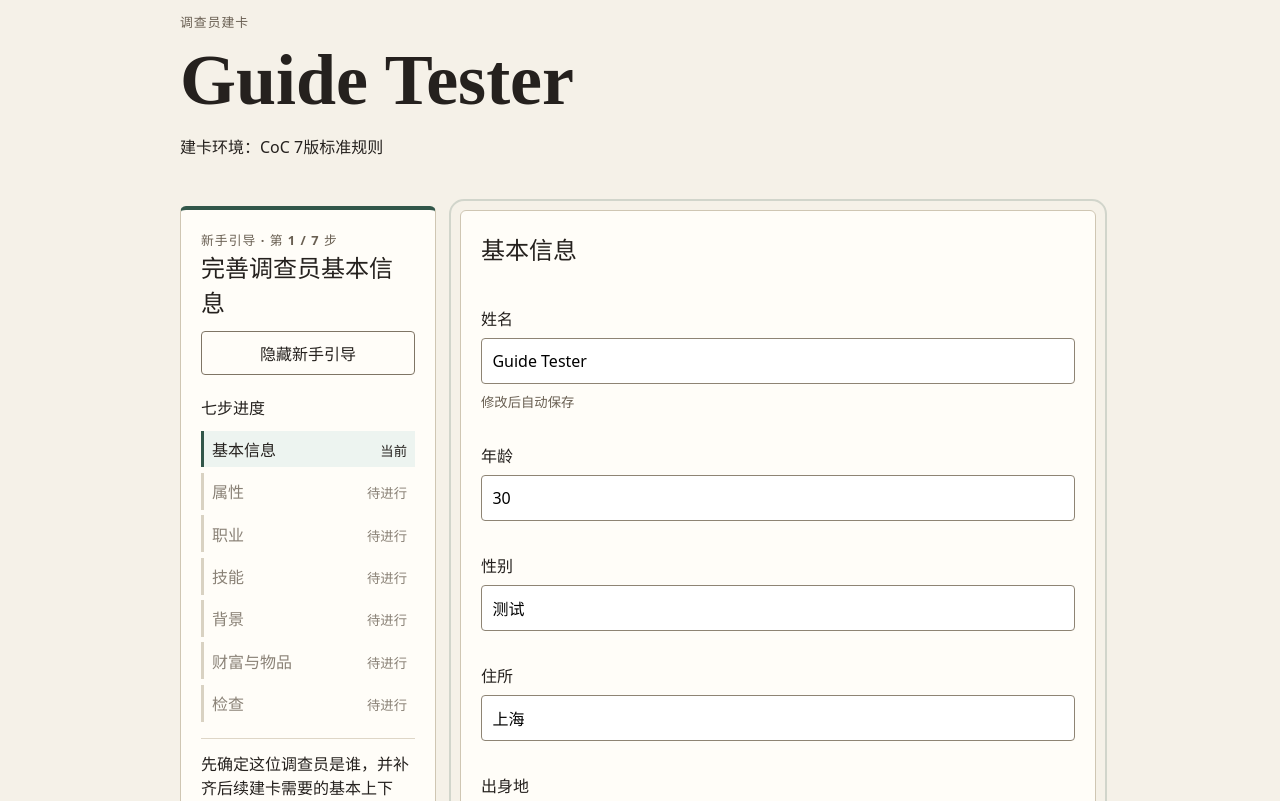
CharacterEditorPage guided creation integration › remains usable when localStorage reads and writes are blocked
This screenshot has width=1280, height=801.
Expected: the heading "完善调查员基本信息" is shown, top-left (201, 249), bottom-right (415, 319)
Click the button with class "creation-guide-toggle" at [308, 353], box top-left (201, 331), bottom-right (415, 375)
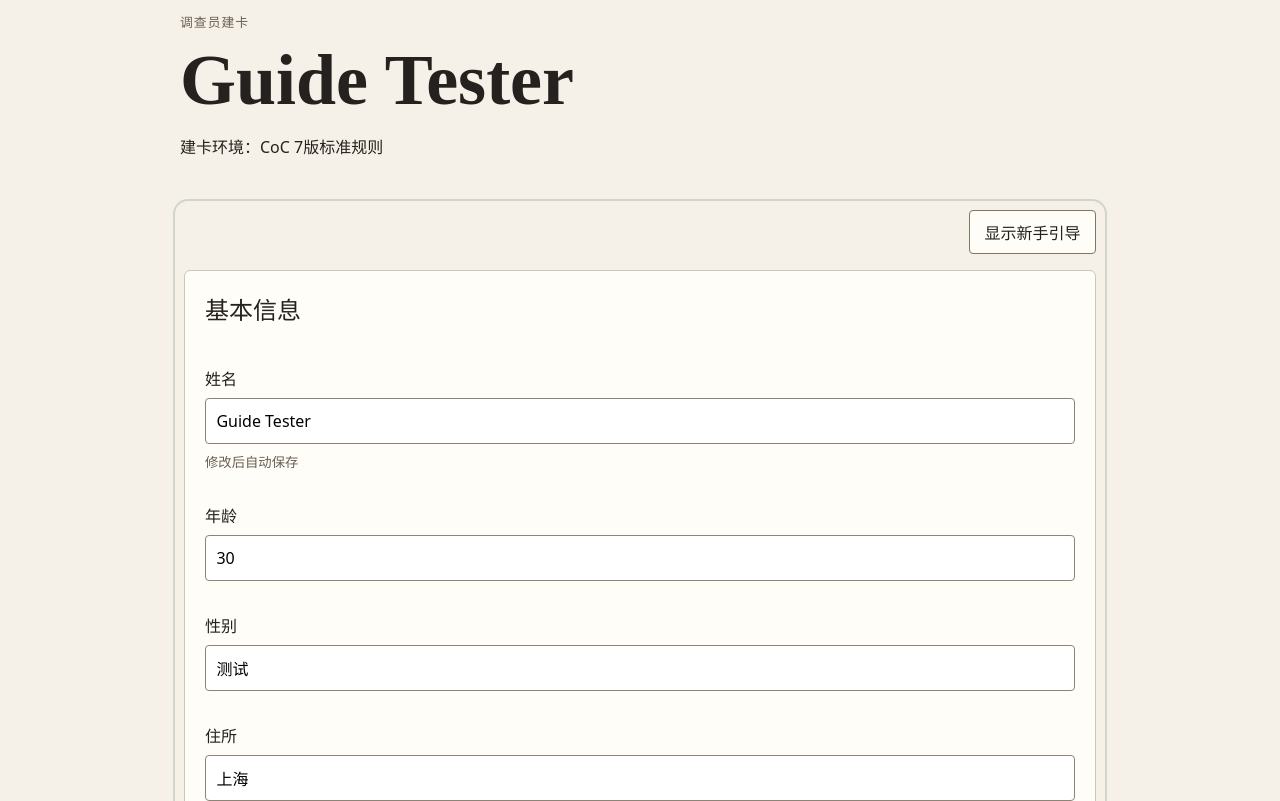
Expected: the button with class "creation-guide-toggle" reads "显示新手引导", top-left (969, 210), bottom-right (1096, 254)
